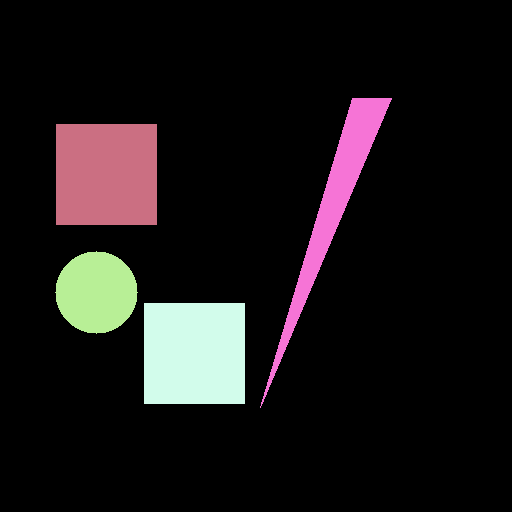circle: (55, 251, 137, 333)
square: (144, 303, 244, 403), (56, 124, 156, 224)
triangle: (260, 98, 391, 407)
